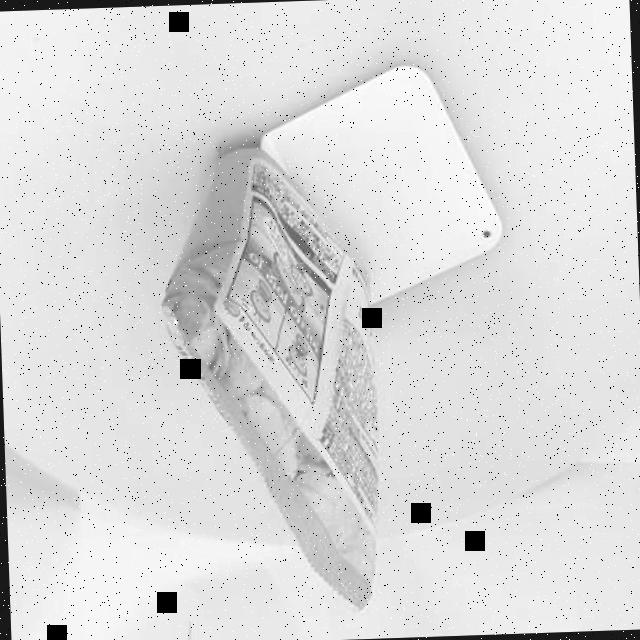snack_bag: (146, 123, 412, 624)
